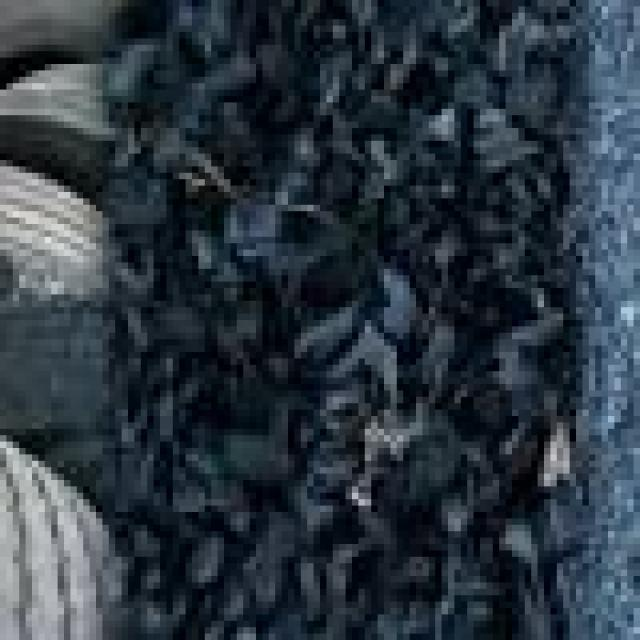Rubber -Non-Biodegradable but Recyclable-: (0, 0, 152, 640)
